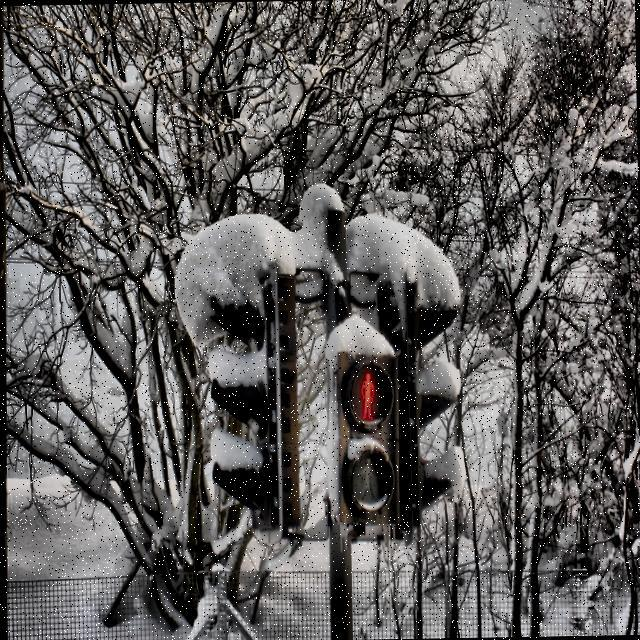red_light: (358, 368, 377, 422)
